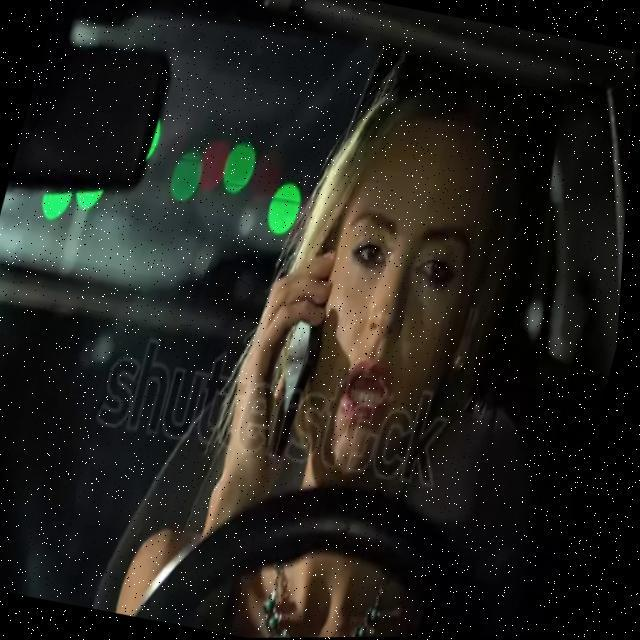PhoneCall: (250, 248, 346, 470)
